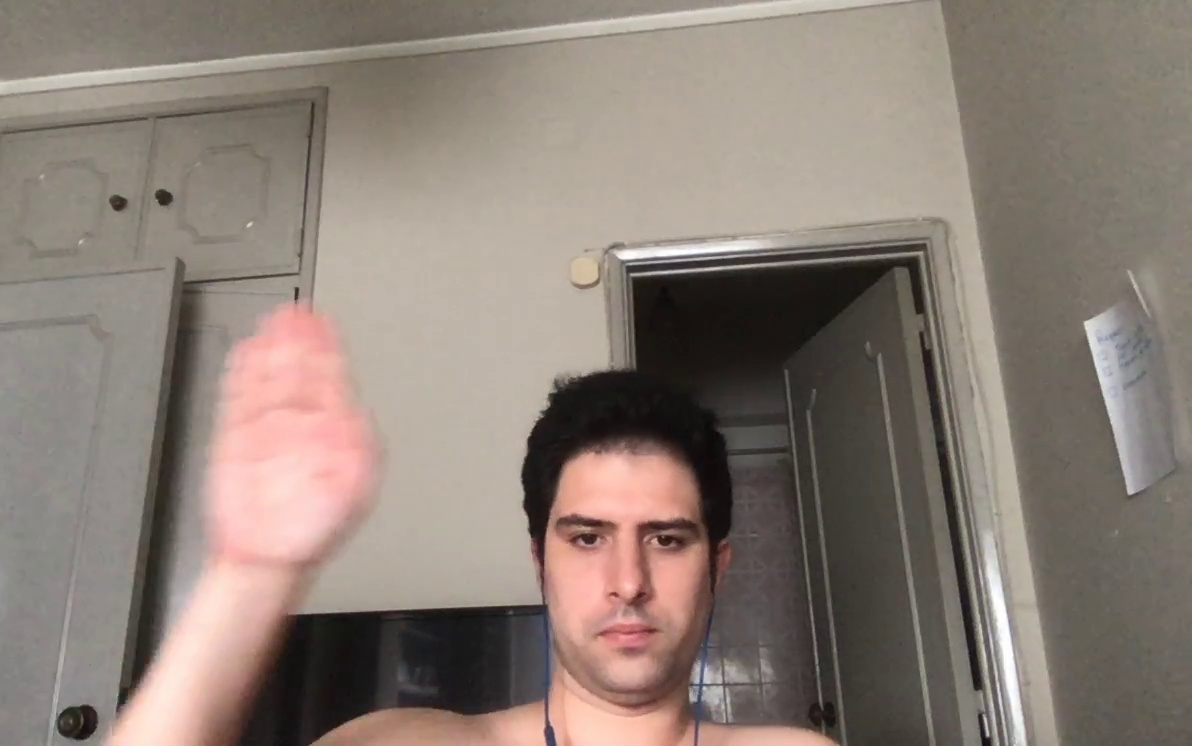b: (189, 294, 389, 575)
